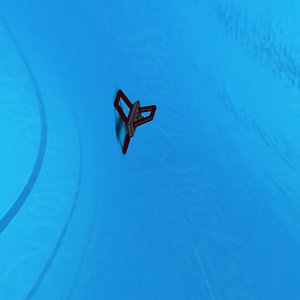submarine: (110, 91, 164, 150)
